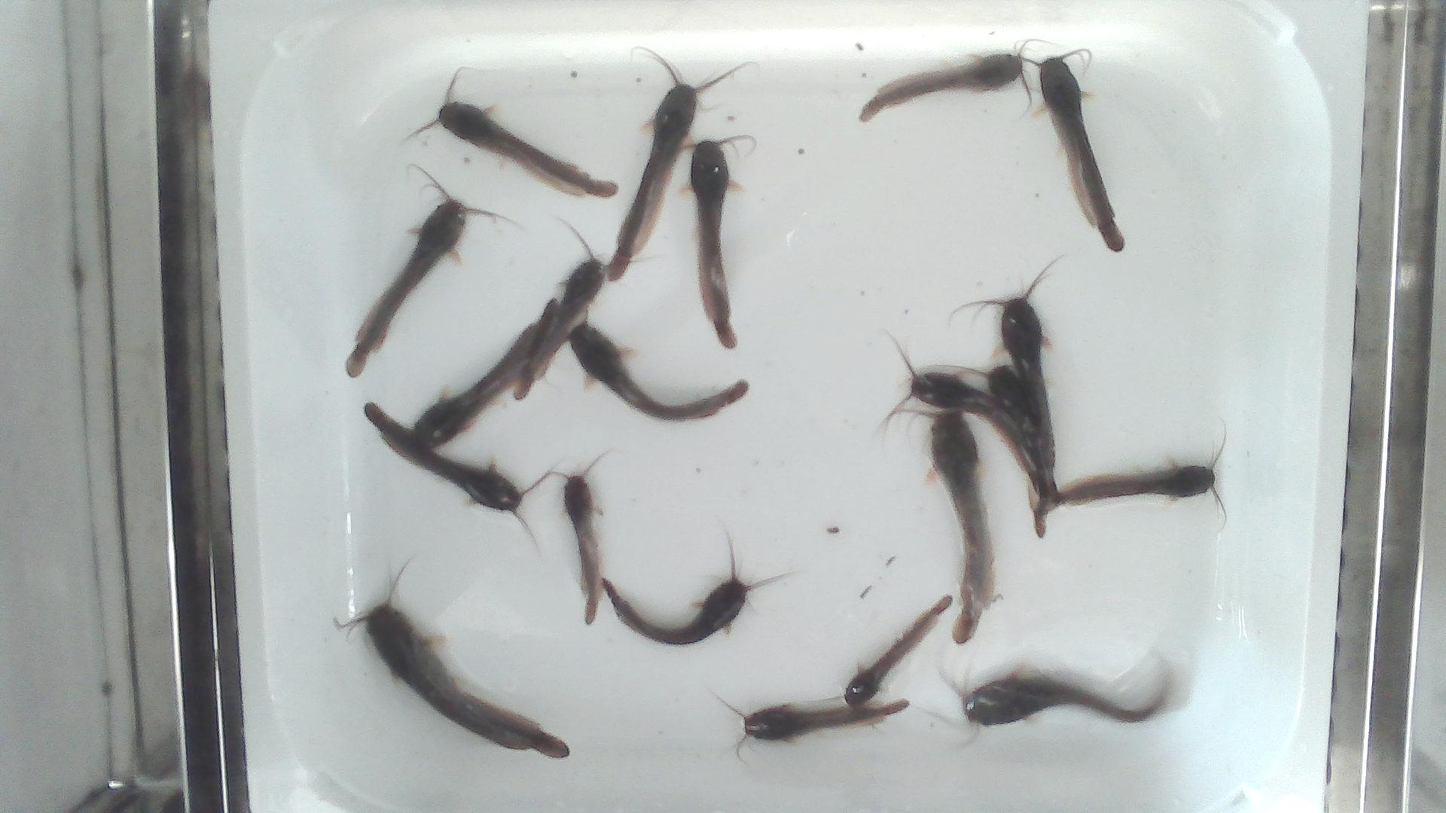lele: (360, 604, 569, 757), (887, 347, 1050, 540), (951, 256, 1062, 482), (414, 295, 560, 450), (347, 199, 465, 376), (606, 84, 697, 280), (569, 321, 748, 420), (438, 101, 616, 197), (365, 403, 522, 510), (515, 222, 606, 401), (1040, 58, 1124, 251), (957, 363, 1056, 518), (931, 410, 993, 643), (716, 697, 909, 761), (844, 597, 951, 706), (964, 671, 1167, 726), (860, 53, 1022, 121), (603, 572, 752, 644), (691, 141, 737, 349), (1057, 461, 1215, 505), (565, 474, 602, 623)
